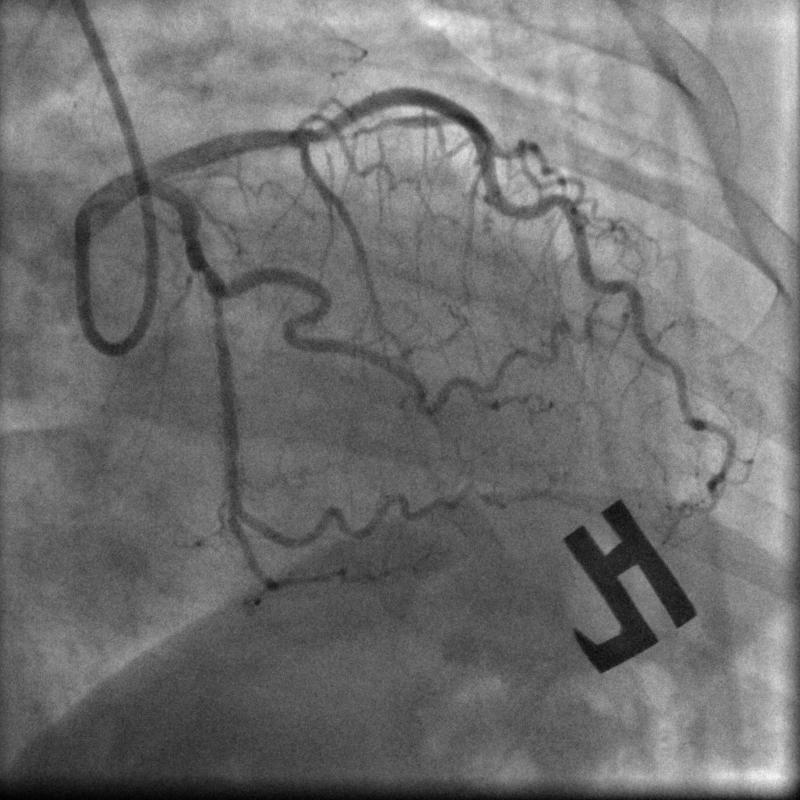Stenosis: (180, 220, 222, 289)
